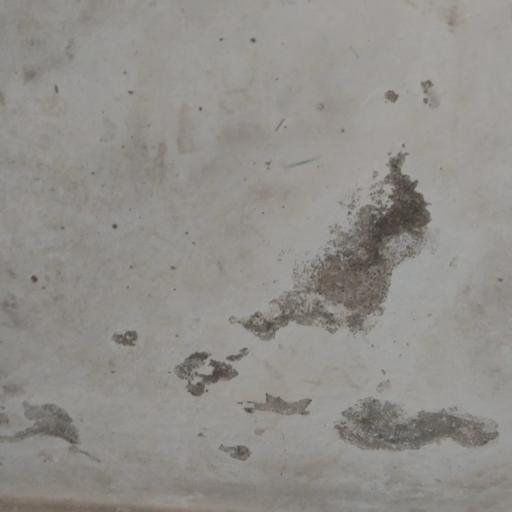peeling: (132, 61, 512, 484), (0, 372, 111, 477), (102, 315, 150, 359)
